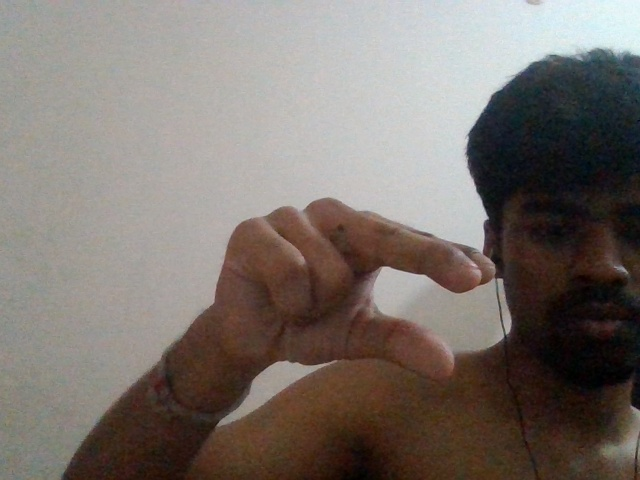No: (216, 191, 500, 379)
